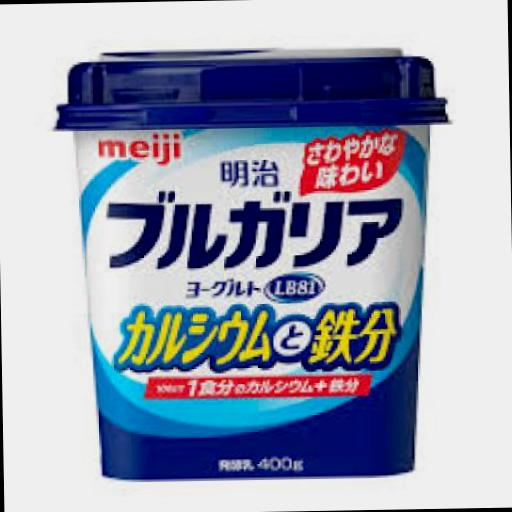plastic: (50, 44, 454, 479), (49, 42, 450, 129)
